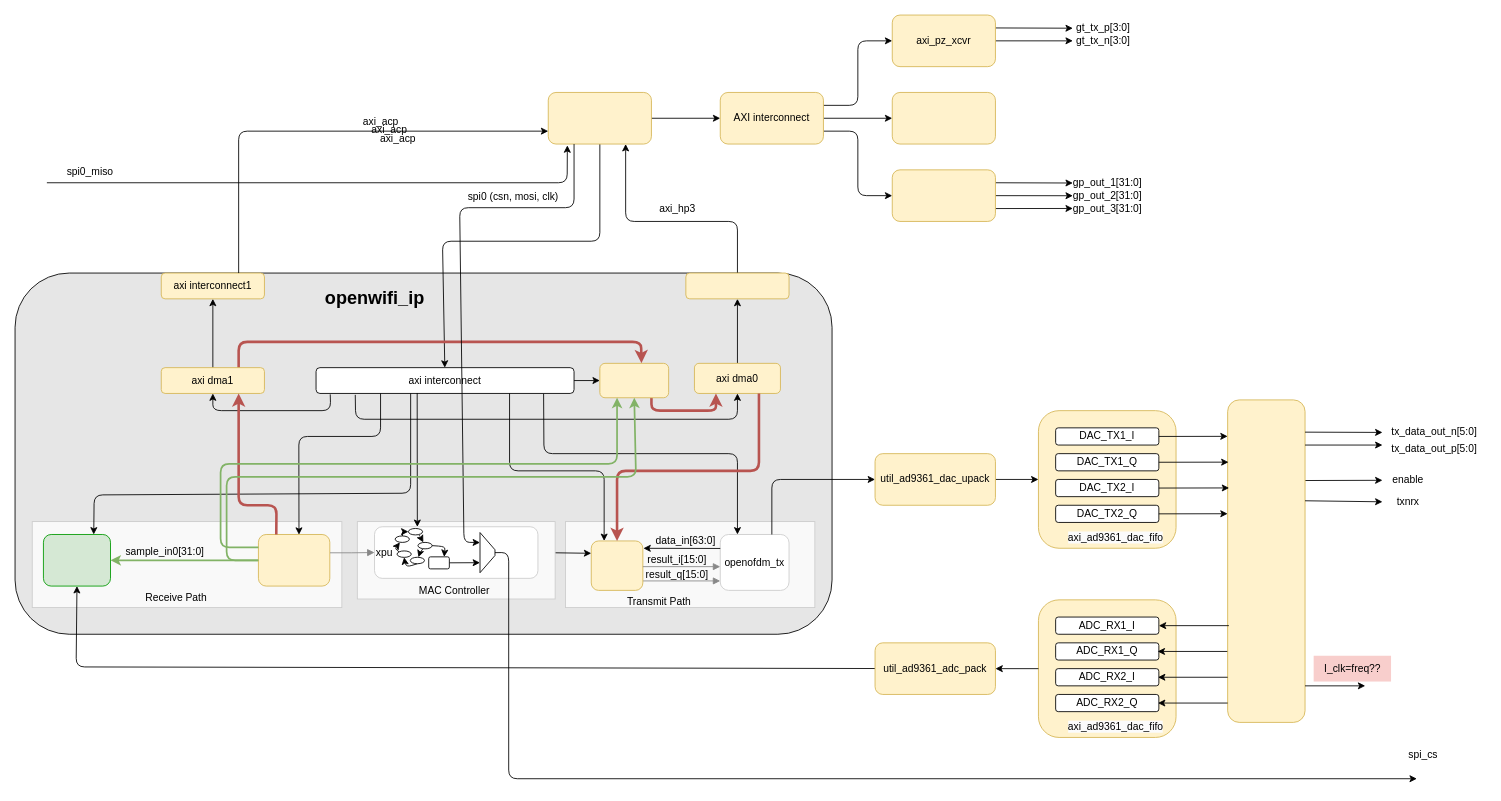
The diagram is 1501 pixels wide and 801 high, and some of its shapes have lost their labels. The shapes that lost their labels are listed below. From the top down, each one's centre as x and y in pixels, then its label:
At [599,118]: "PS subsystem".
At [943,118]: "axi_iic".
At [943,195]: "axi_gp_Reg".
At [737,285]: "axi interconnect0".
At [634,380]: "Side_ch".
At [77,560]: "openofdm_rx".
At [294,560]: "rx_intf".
At [438,562]: "spi".
At [616,565]: "tx_intf".
At [1266,560]: "axi_ad9361".
